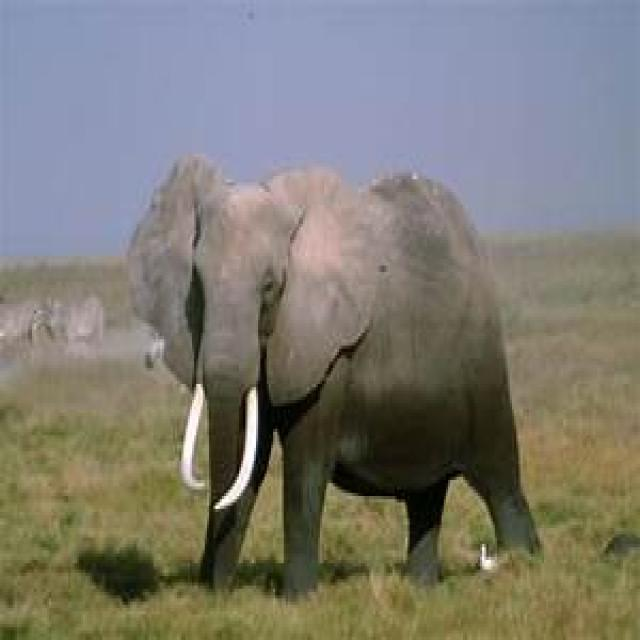elephant: (126, 154, 542, 602)
